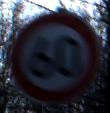Speed Limit -60-: (11, 12, 100, 101)
